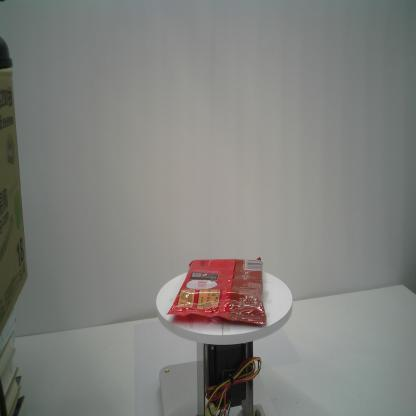Dessert: (166, 256, 267, 326)
